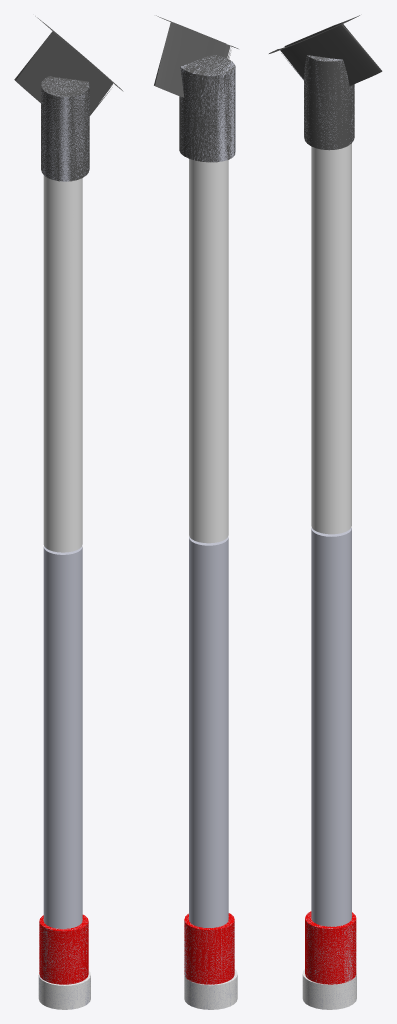
File: Baston-blanco.fbx
The picture shows the model from 3 angles, left to right: view 1: azimuth 90°, elevation 25°; view 2: azimuth 150°, elevation 25°; view 3: azimuth 270°, elevation 25°; orthographic projection. The views are drawn at different scales.
Visible parts, largest first — view 1: ID25.001, ID25, ID35, ID59, ID11, ID35.001, ID49, ID11.001, ID49.001; view 2: ID25.001, ID25, ID35, ID35.001, ID11, ID59, ID49, ID11.001, ID49.001; view 3: ID25.001, ID25, ID35, ID11, ID59, ID49, ID11.001, ID35.001, ID49.001.
Boxes of the visible parts, x1,y1,x2,y2 form: ID25.001: (43, 546, 82, 928); ID25: (43, 175, 82, 552); ID35: (41, 76, 89, 181); ID59: (14, 16, 123, 109); ID11: (39, 914, 88, 984); ID35.001: (41, 78, 89, 181); ID49: (38, 971, 90, 1009); ID11.001: (39, 916, 88, 984); ID49.001: (38, 975, 90, 1009); ID25.001: (189, 536, 228, 927); ID25: (189, 159, 228, 543); ID35: (179, 54, 235, 162); ID35.001: (180, 55, 235, 161); ID11: (184, 913, 234, 984); ID59: (154, 15, 238, 97); ID49: (184, 969, 237, 1009); ID11.001: (184, 914, 234, 984); ID49.001: (184, 970, 237, 1009); ID25.001: (311, 527, 351, 926); ID25: (311, 143, 351, 534); ID35: (304, 55, 354, 150); ID11: (305, 911, 356, 984); ID59: (269, 15, 382, 85); ID49: (302, 969, 356, 1009); ID11.001: (305, 912, 356, 983); ID35.001: (304, 55, 354, 148); ID49.001: (303, 971, 356, 1009).
Size of the model in its own units: 22.61 by 324 by 33.39.
